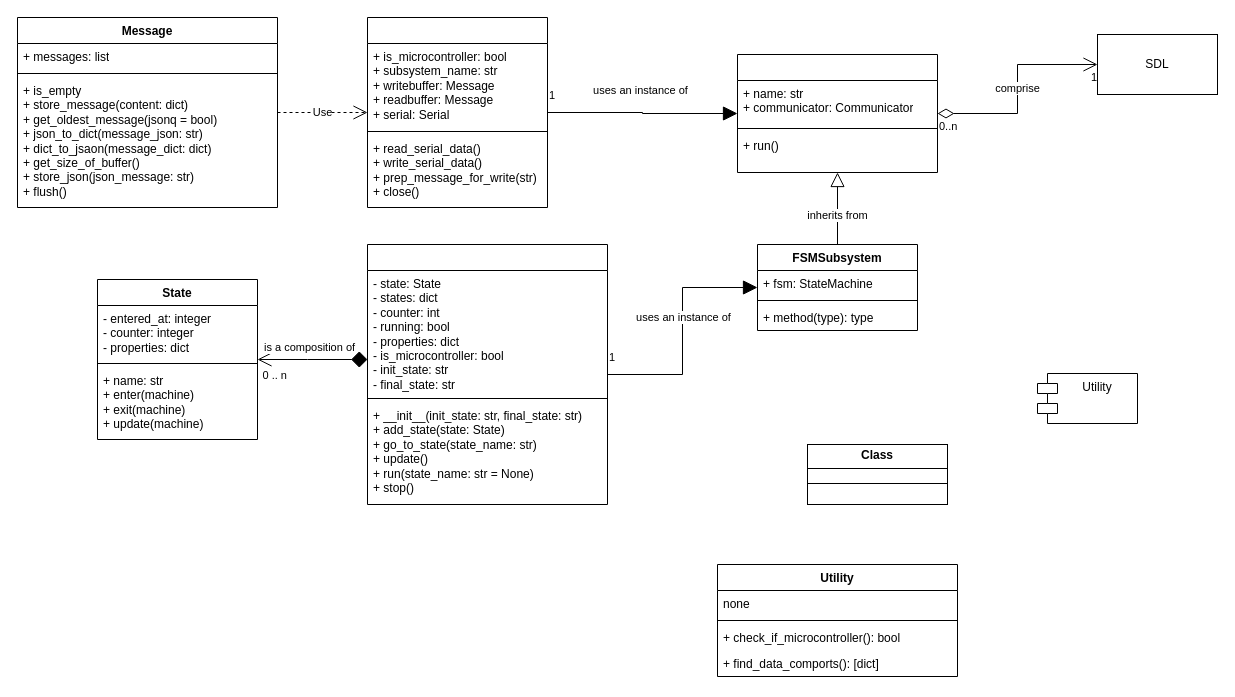
This 1235x697 diagram has some shape labels left out. Each missing label, with the box of its shape:
Communicator: (366, 16, 548, 208)
State Machine: (366, 244, 608, 504)
Subsystem: (736, 54, 938, 172)
